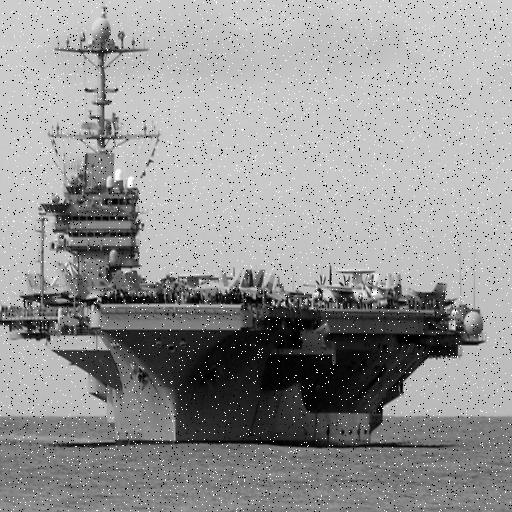Portanaves: (1, 1, 504, 459)
